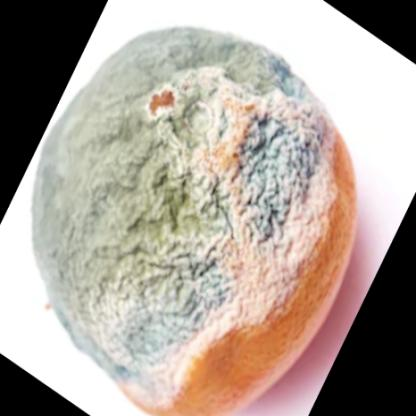rotten: (34, 28, 356, 416)
